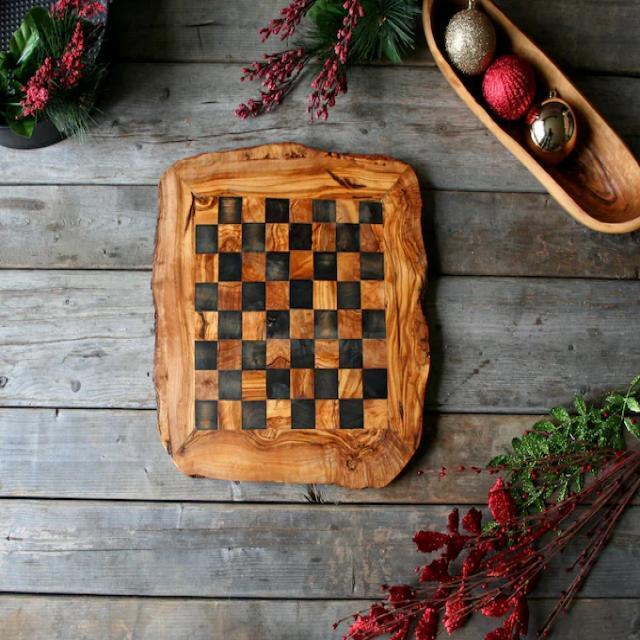chess-table-corners: (369, 190, 402, 224), (183, 414, 218, 446), (374, 407, 404, 440), (185, 184, 212, 216)
